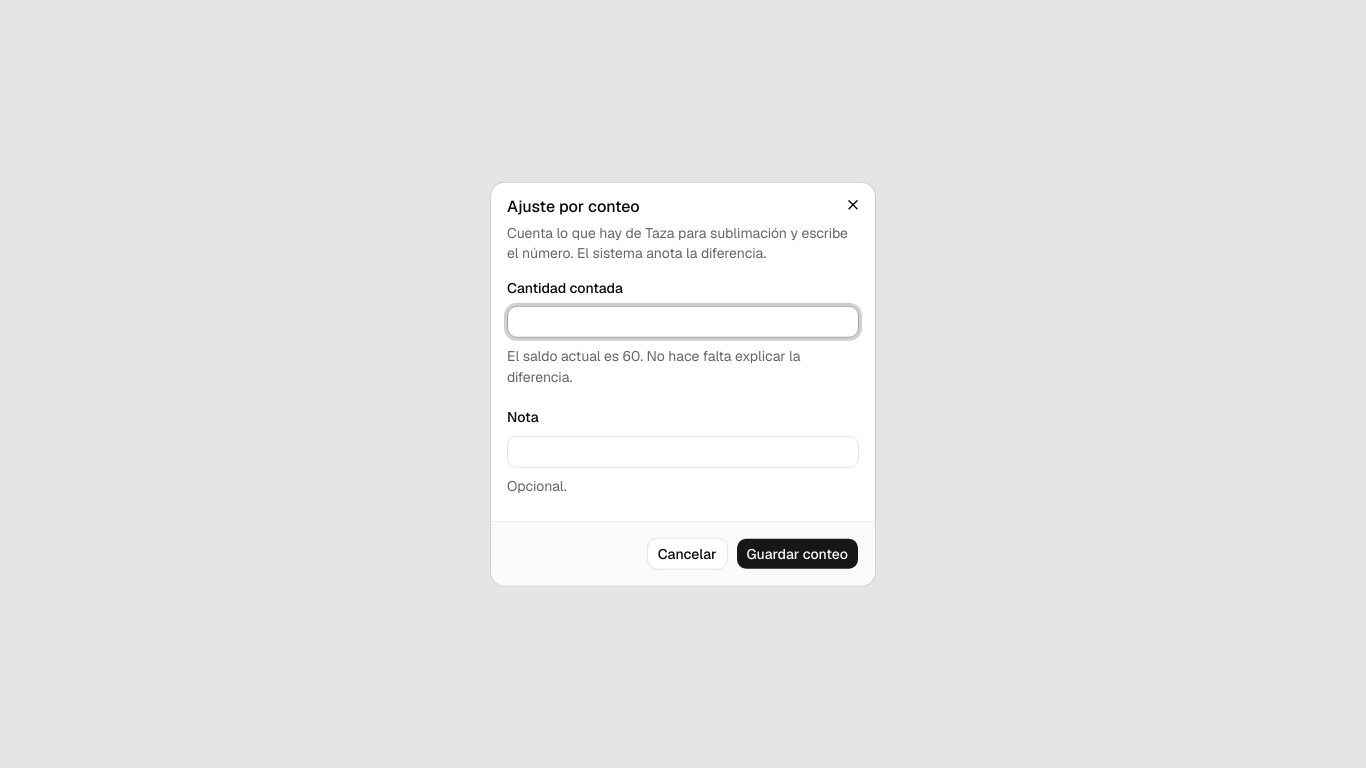
Scenario: CountDialog › no guarda nada cuando el conteo coincide, y lo dice sin alarmar
Type "60" into the field labelled "Cantidad contada".
click(683, 322); type("60")  # box [507,306,859,338]
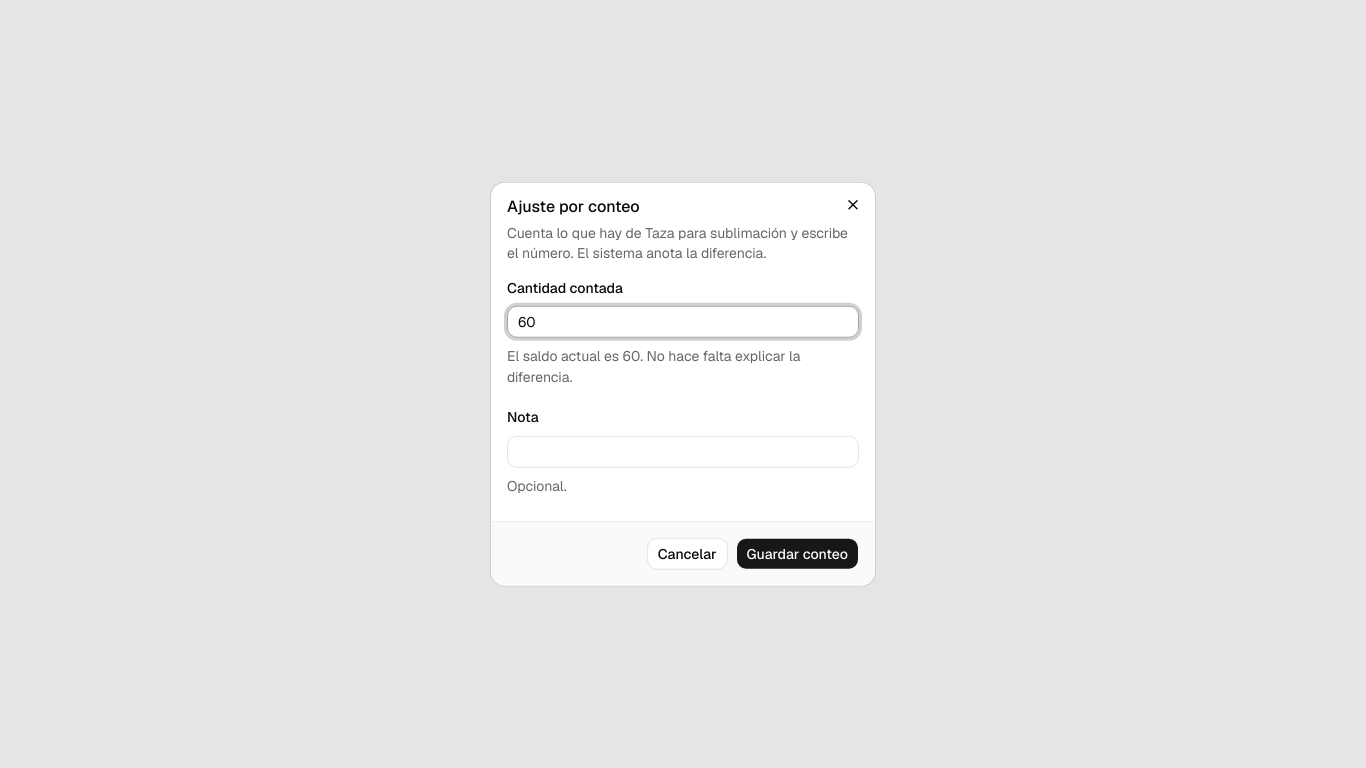
Click the button "Guardar conteo".
click(797, 553)  # box [736,537,859,569]
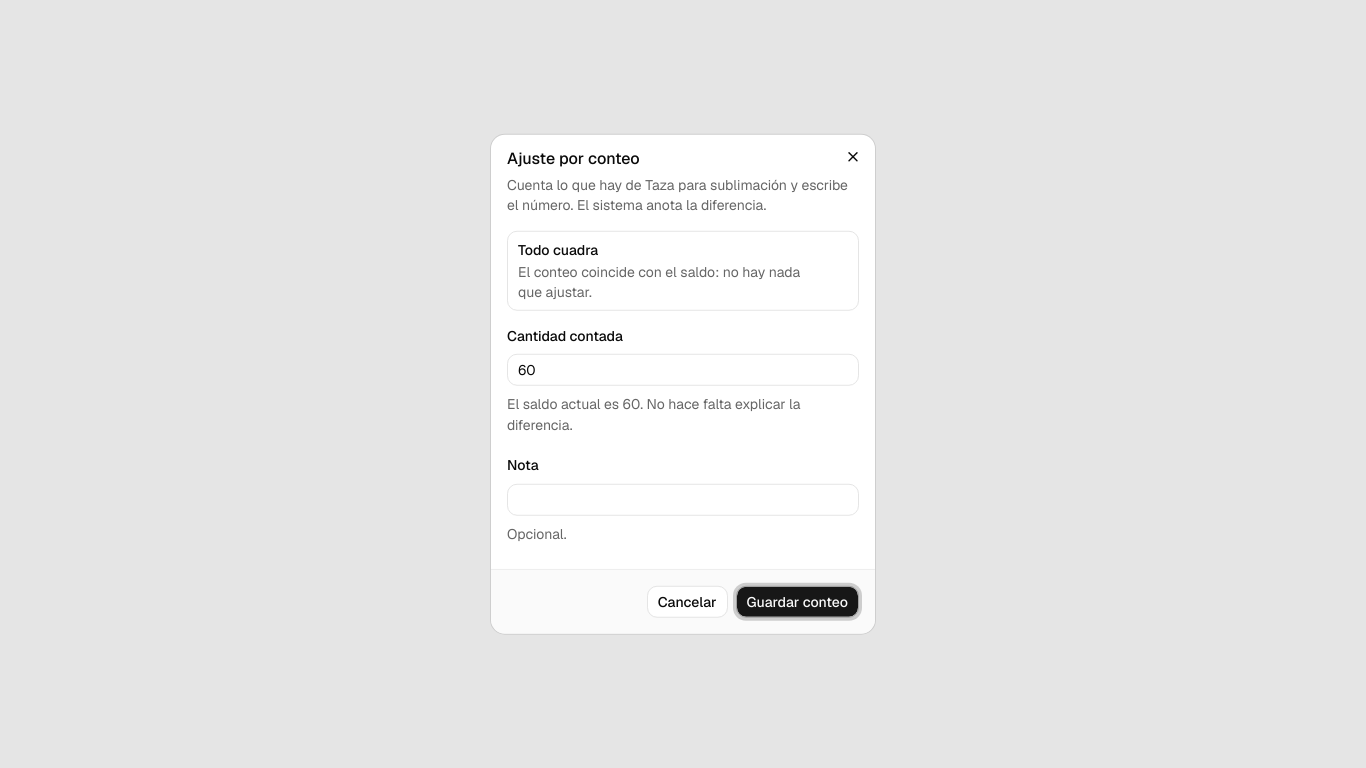
Now the message "Todo cuadra El conteo coincide con el saldo: no hay nada que ajustar." is shown, box [507,231,859,311]
Now the text "El conteo coincide con el saldo: no hay nada que ajustar." is shown, box [518,262,848,302]
